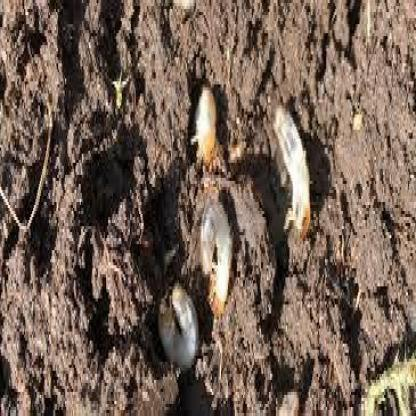root grubs: (157, 285, 201, 374), (202, 198, 234, 315)
